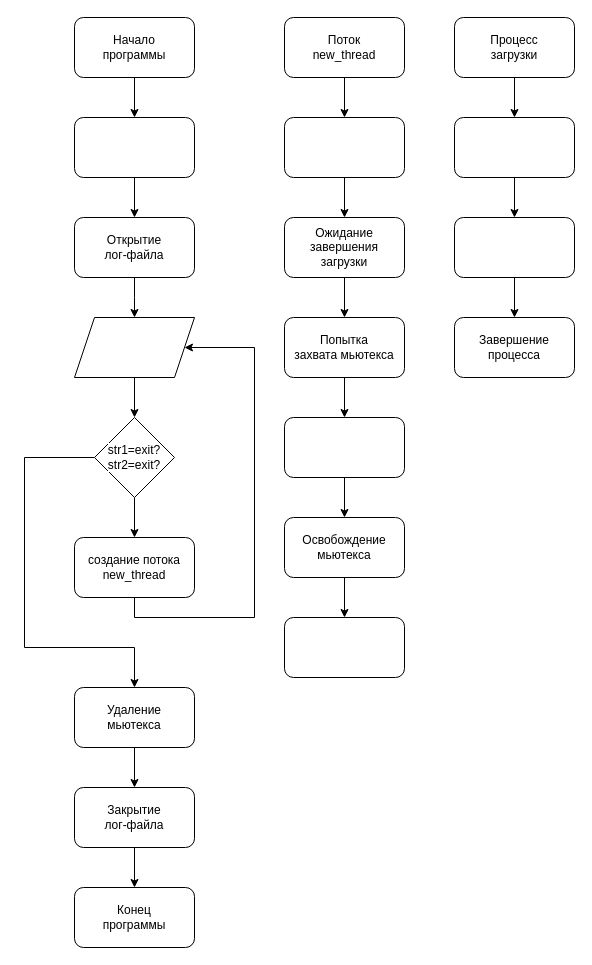
The diagram is 592 pixels wide and 965 high, and some of its shapes have lost their labels. The shapes that lost their labels are listed below. From the top down, each one's centre as x and y in pixels, then its label:
(134,147): Инициализация мьютекса
(344,147): Создание процесса загруки
(514,147): Замещение себя на процесс curl
(514,247): Загрузка
(134,347): ввод str1,str2
(344,447): Запись в лог-файл
(344,647): Конец потока
